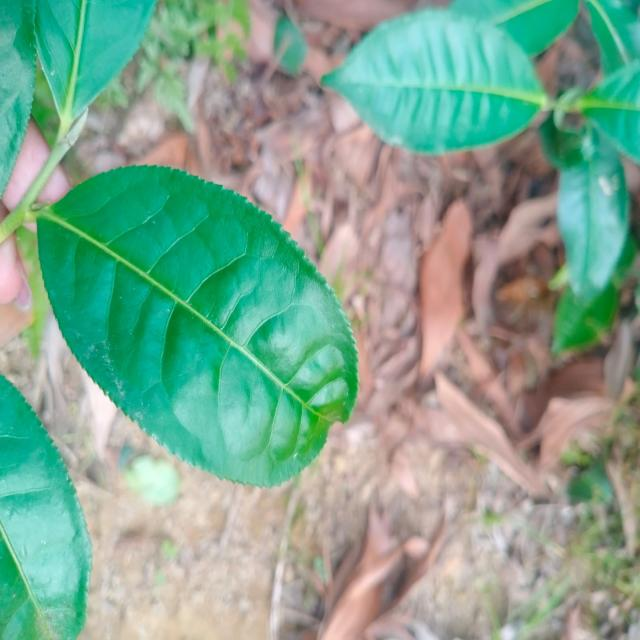Category D 7+ days, Not for Tea: (14, 150, 392, 506)
